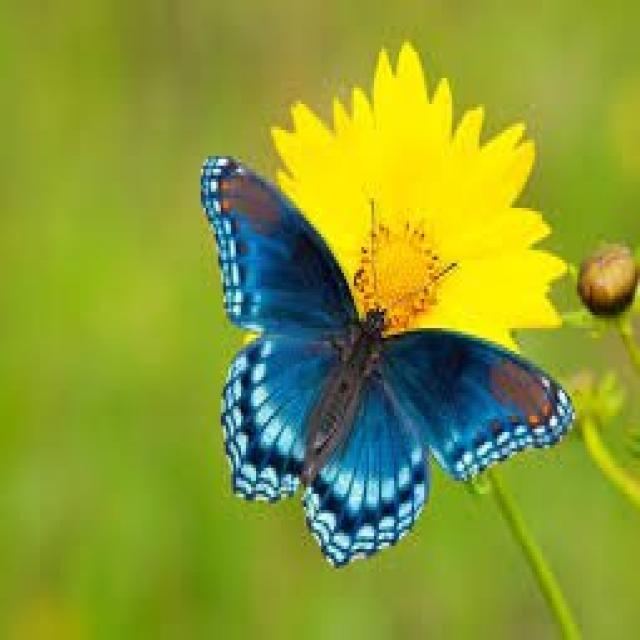butterfly: (216, 160, 466, 558)
